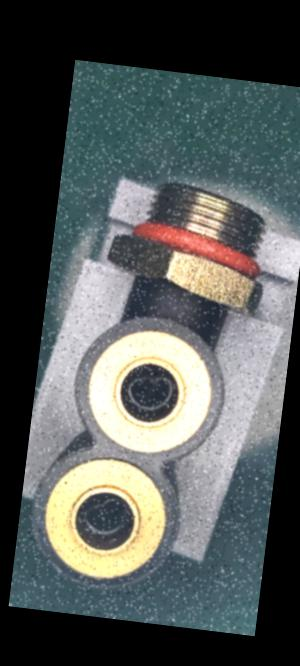joint line: (170, 281, 184, 315)
off-centered: (117, 361, 179, 420), (73, 489, 138, 542)
